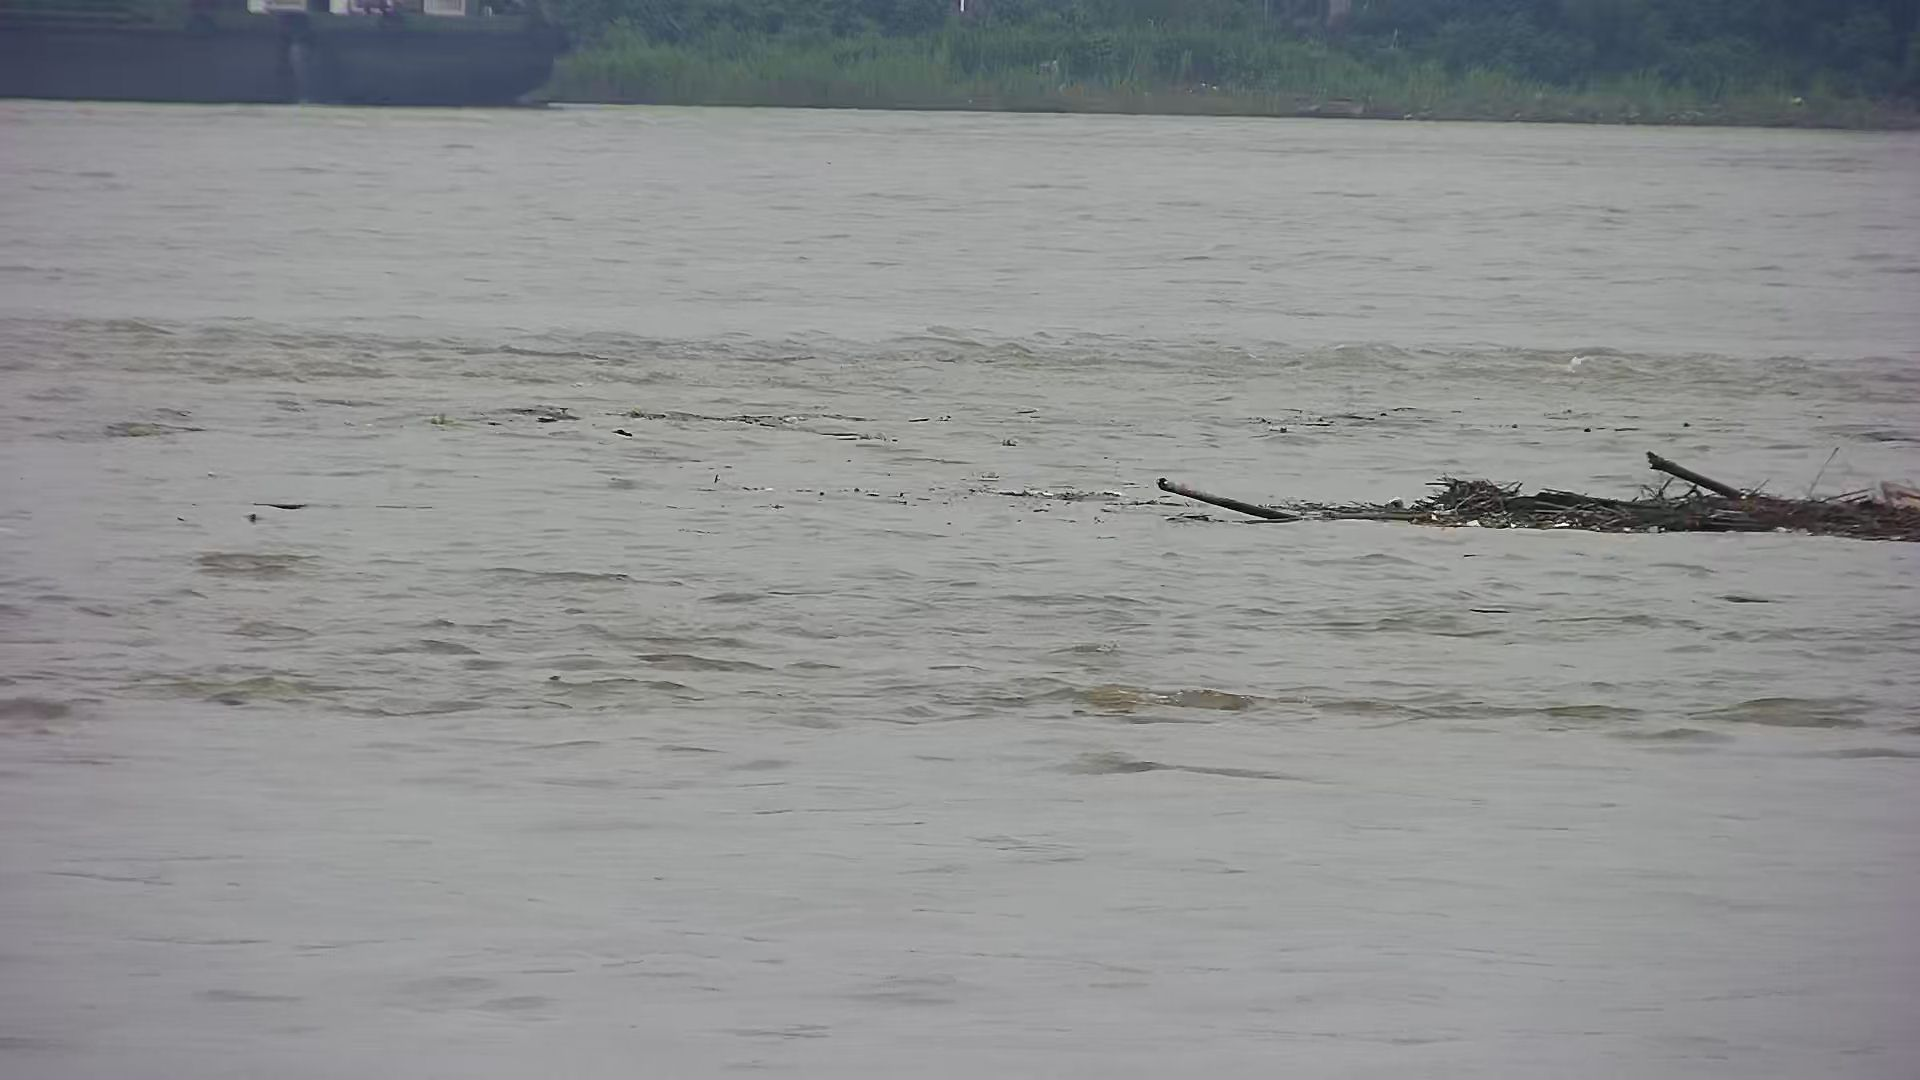rubbish: (1116, 436, 1920, 553)
